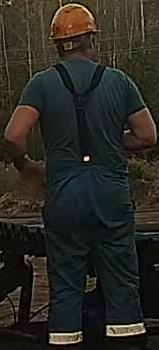helmet: (47, 3, 99, 41)
